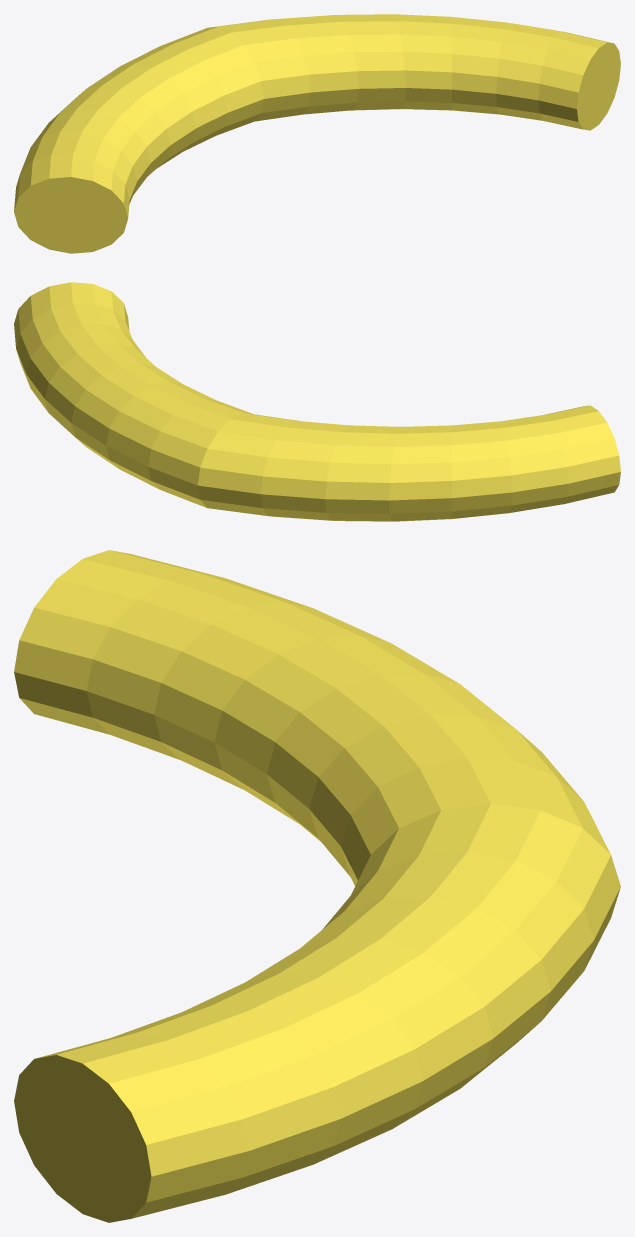
Rendered from banana.fbx.
3 views of the same model, one above another, from view 1: azimuth 30°, elevation 25°; view 2: azimuth 150°, elevation 25°; view 3: azimuth 270°, elevation 25° (orthographic). The views are drawn at different scales.
Parts seen in each view (by area): view 1: Banana; view 2: Banana; view 3: Banana.
Boxes of the visible parts, left/top/right/bottom form: Banana: left=14, top=14, right=620, bottom=253; Banana: left=14, top=282, right=620, bottom=521; Banana: left=14, top=550, right=620, bottom=1222.
Bounding box in the file's own units: 3.17 × 0.42 × 1.4.
